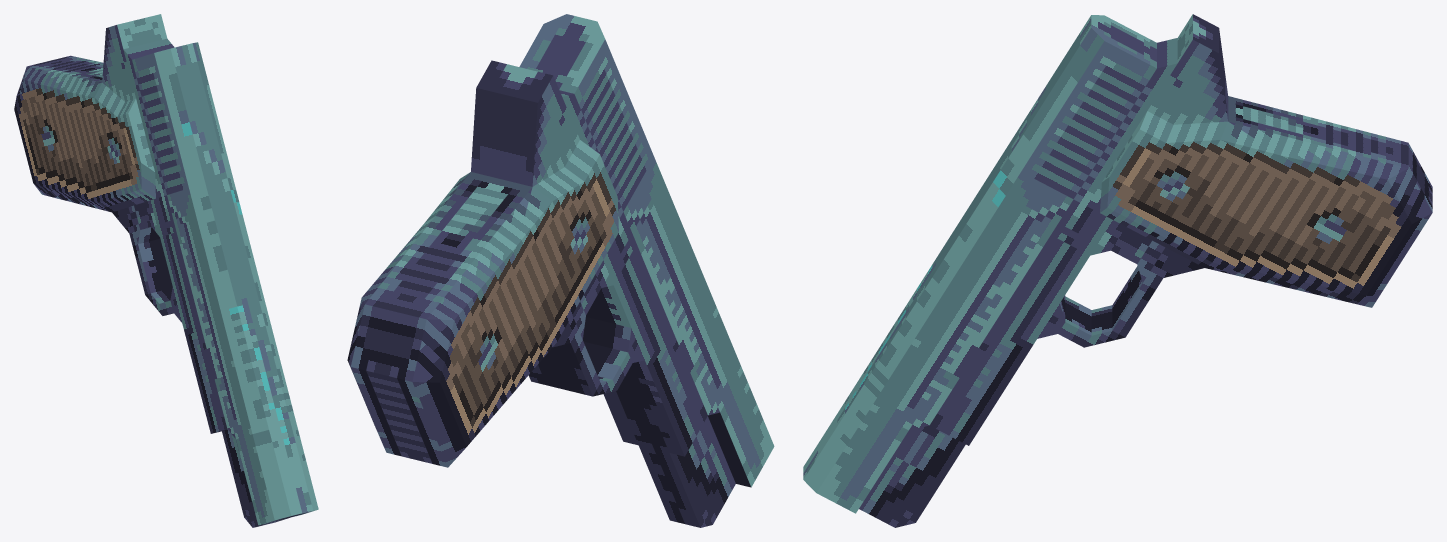
The model's file is DoomGun.glb.
The picture shows the model from 3 angles, left to right: view 1: azimuth 30°, elevation 25°; view 2: azimuth 150°, elevation 25°; view 3: azimuth 270°, elevation 25°; orthographic projection. The views are drawn at different scales.
Visible parts, largest first — view 1: Object_2; view 2: Object_2; view 3: Object_2.
Boxes of the visible parts, bbox=[...] form: Object_2: bbox=[14, 14, 318, 527]; Object_2: bbox=[347, 14, 774, 527]; Object_2: bbox=[803, 14, 1432, 527].
Bounding box in the file's own units: 0.0375 × 0.2276 × 0.2595.
1 material, 1 textured.
